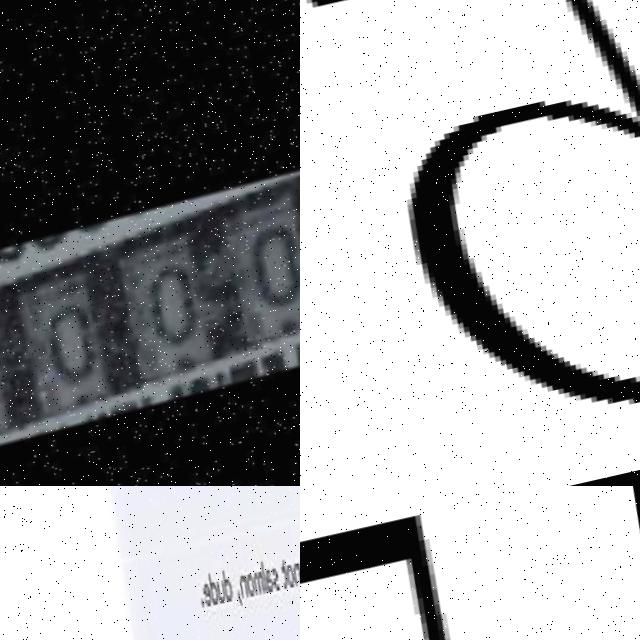0: (138, 250, 221, 350), (38, 286, 121, 386), (243, 212, 300, 312)
3: (0, 315, 20, 415)
5: (300, 0, 640, 469), (300, 493, 580, 640)
A: (269, 564, 284, 598)
D: (225, 563, 243, 600), (212, 570, 228, 606)
E: (206, 582, 222, 608)
L: (265, 559, 277, 595)
M: (258, 571, 274, 595)
N: (243, 574, 257, 596), (296, 559, 300, 586)
O: (251, 574, 264, 596), (290, 564, 300, 587)
S: (274, 564, 290, 594)
T: (285, 558, 297, 590)
U: (221, 578, 236, 605)
